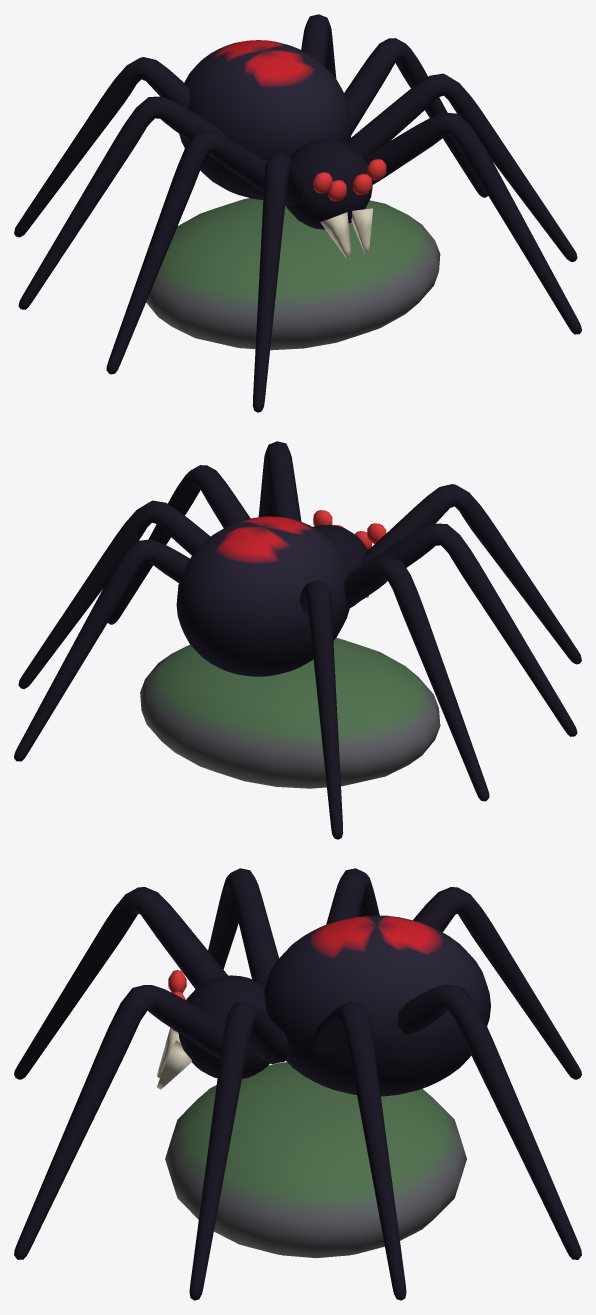
The model's file is ing_spider.glb.
The picture shows the model from 3 angles, top to bottom: view 1: azimuth 30°, elevation 25°; view 2: azimuth 150°, elevation 25°; view 3: azimuth 270°, elevation 25°; orthographic projection. The views are drawn at different scales.
Parts seen in each view (by area): view 1: ing_spider; view 2: ing_spider; view 3: ing_spider.
Boxes of the visible parts, x1,y1,x2,y2 form: ing_spider: (14,14,581,412); ing_spider: (14,441,581,839); ing_spider: (14,868,581,1300).
Bounding box in the file's own units: 0.5219 × 0.2716 × 0.471.
